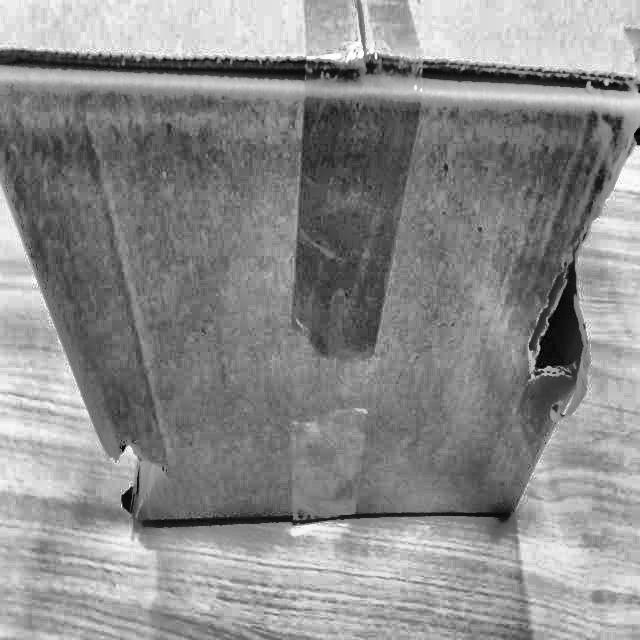box: (0, 0, 639, 542)
hole: (531, 83, 634, 384), (108, 442, 164, 534)
